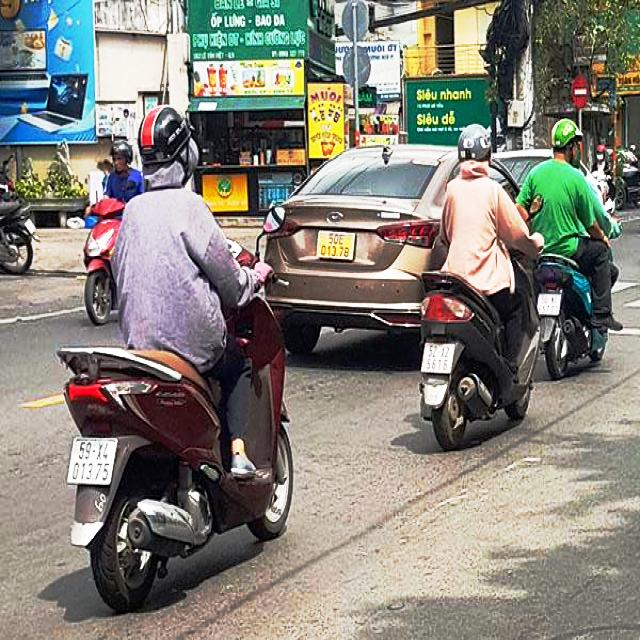license_plate: (67, 439, 120, 486), (422, 344, 457, 374), (318, 233, 355, 261)
